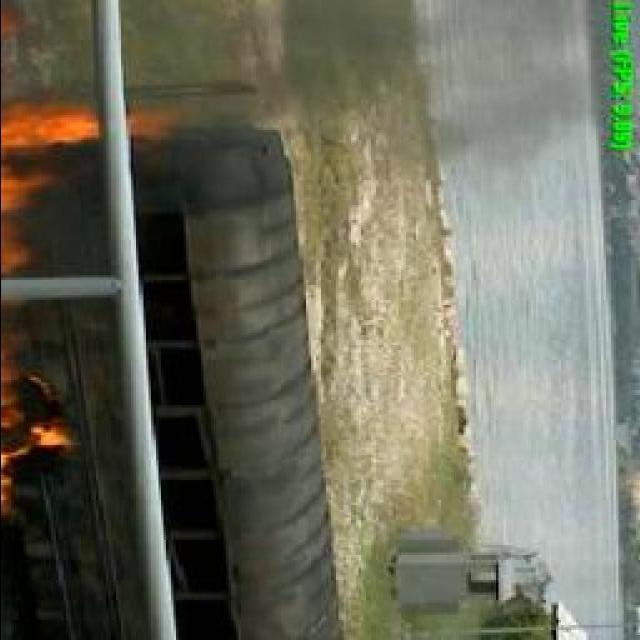Fire: (0, 104, 104, 247), (0, 352, 68, 502)
